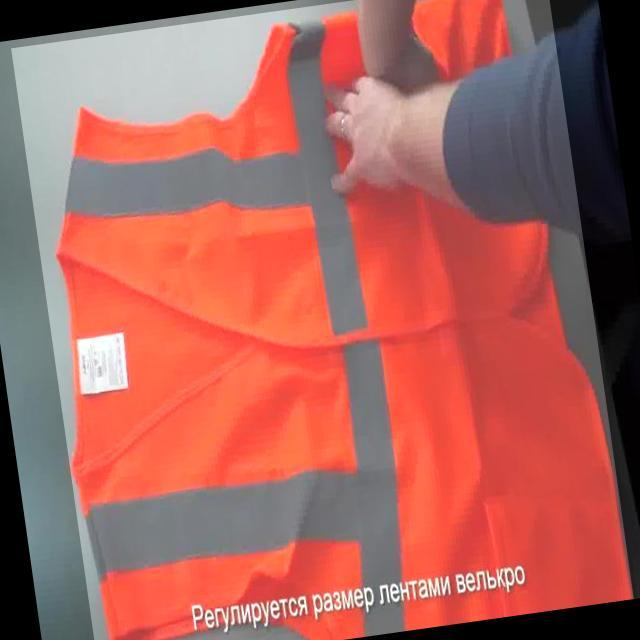Safety Vest: (11, 0, 634, 640)
